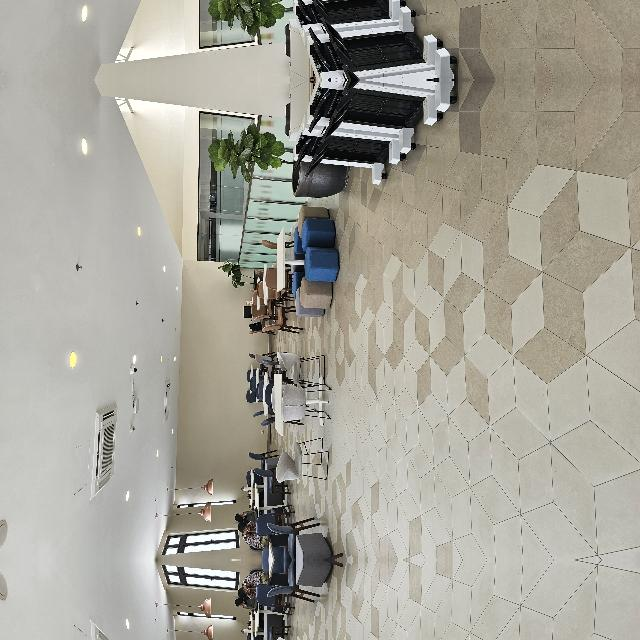obstacle: (396, 367, 480, 537), (243, 355, 353, 409), (395, 583, 480, 640), (124, 350, 206, 406), (68, 350, 120, 410), (357, 370, 399, 430)
